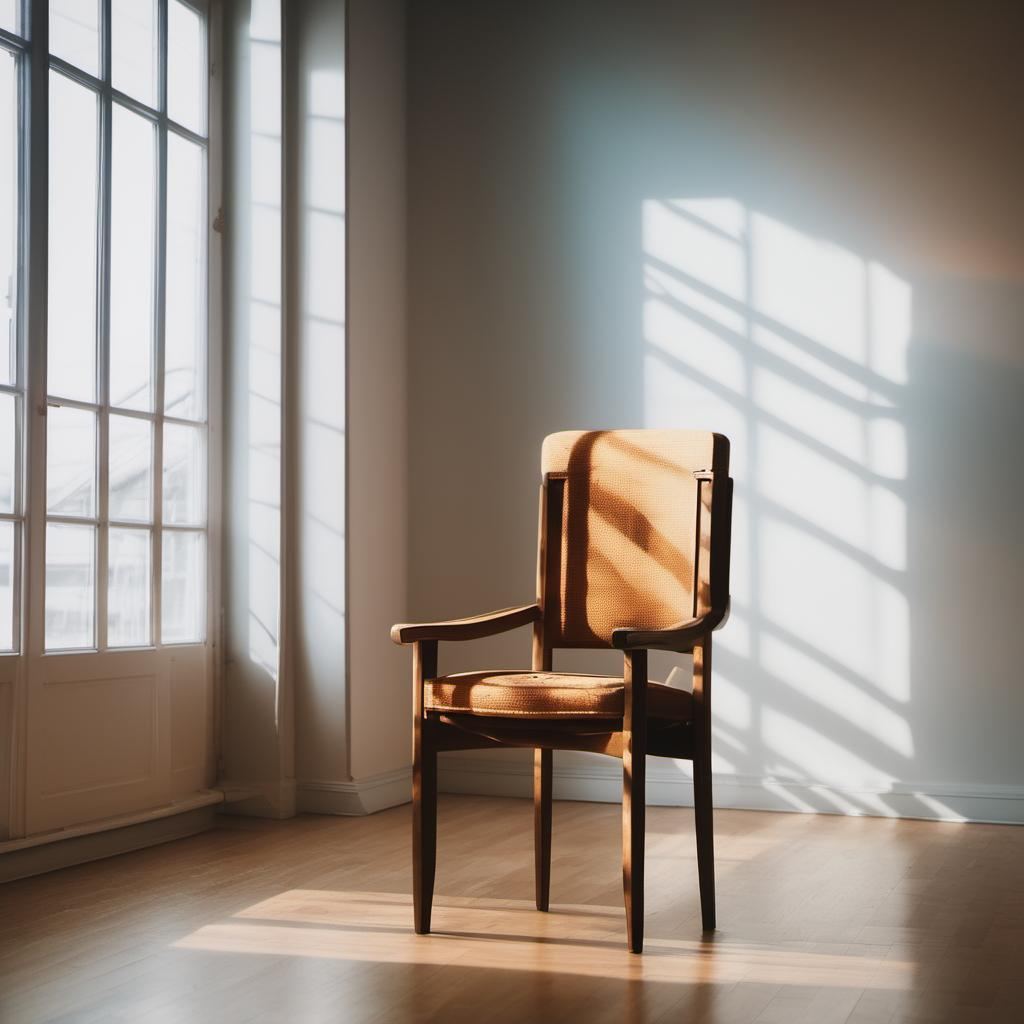chair_new: (393, 433, 732, 951)
